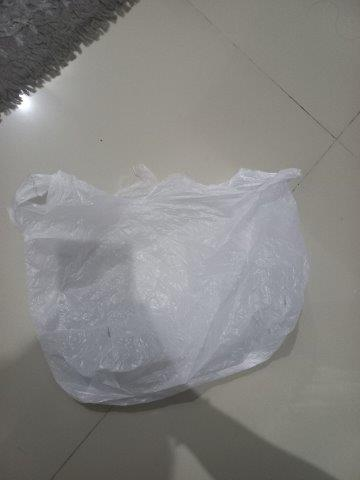plastik: (14, 163, 312, 406)
